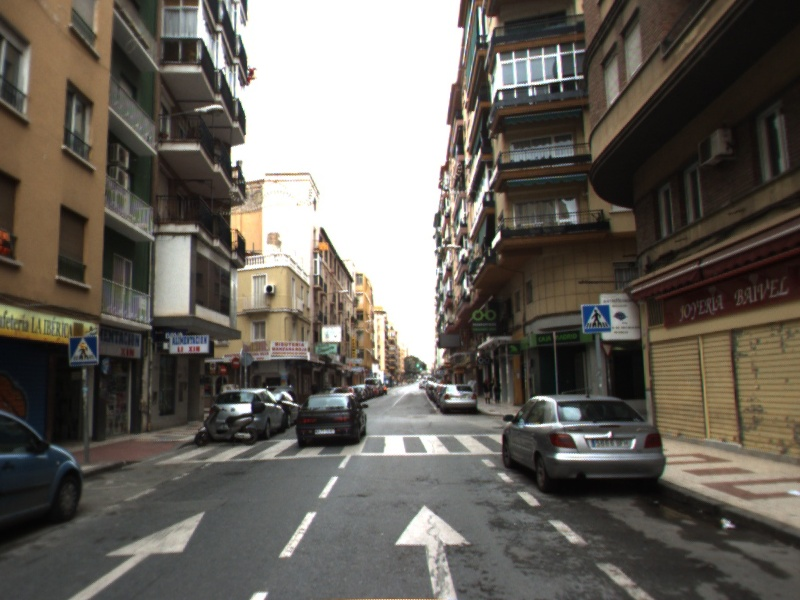STRAIGHT: (66, 507, 208, 600), (392, 500, 475, 600)
